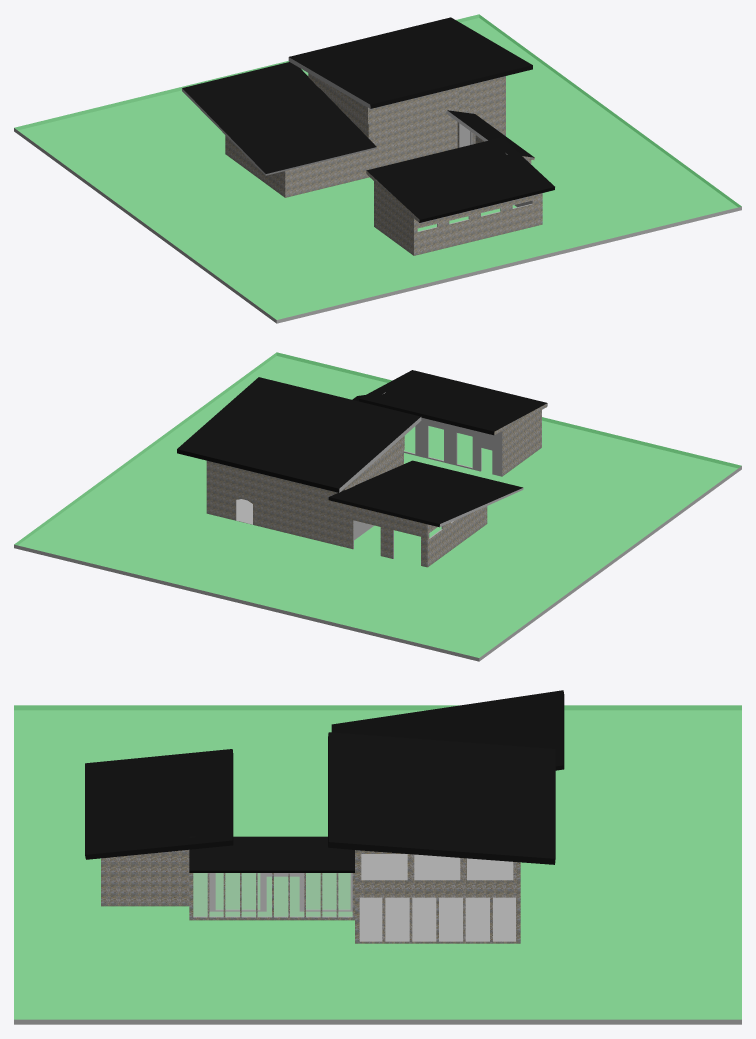
The model's file is subhouse.glb.
3 renders of one model, top to bottom at view 1: azimuth 30°, elevation 25°; view 2: azimuth 150°, elevation 25°; view 3: azimuth 270°, elevation 25°, orthographic. The views are drawn at different scales.
Visible parts, largest first — view 1: Solid1; view 2: Solid1; view 3: Solid1, Solid2, Solid3.
Part boxes in pixels (x1,y1,x2,y2): Solid1: (14, 14, 741, 323); Solid1: (14, 352, 741, 661); Solid1: (14, 690, 741, 1024); Solid2: (360, 854, 515, 941); Solid3: (193, 873, 352, 916).
Bounding box in the file's own units: 41.08 × 7.19 × 40.18.
5 materials, 1 textured.
